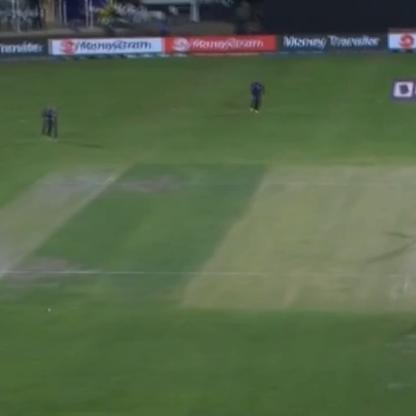ball: (44, 305, 54, 314)
